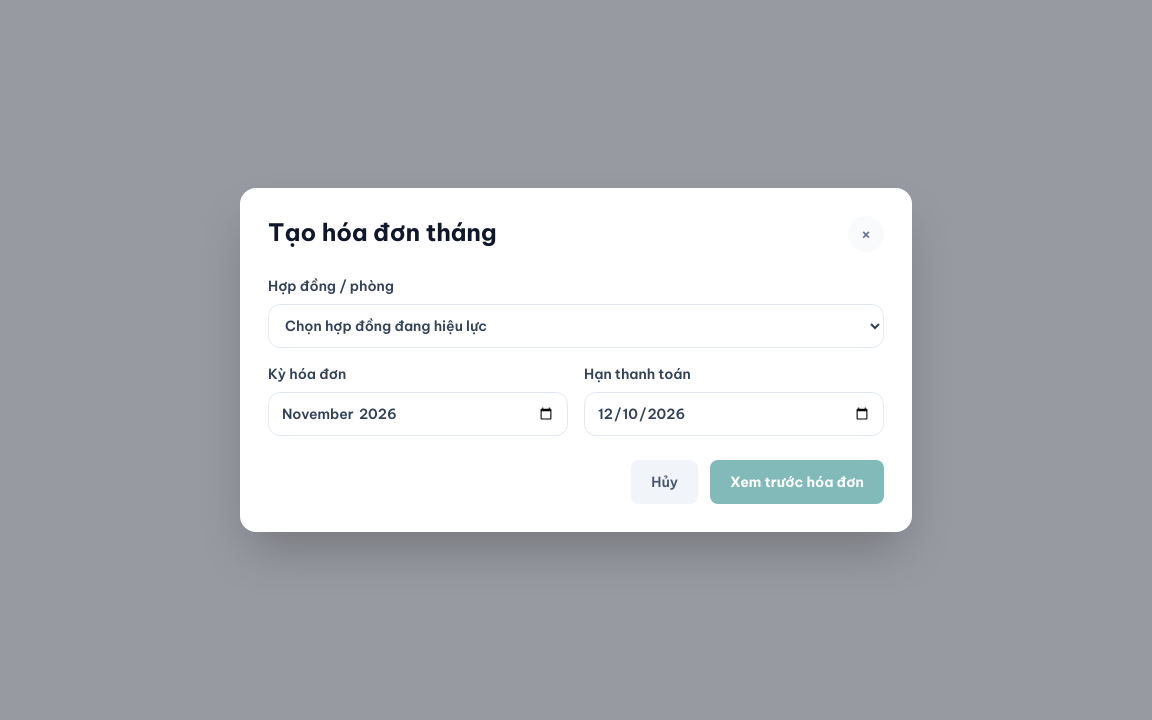
Scenario: contract meter handover › guides a missing baseline to the shared form without offering editable starting readings
The width and height of the screenshot is (1152, 720).
Select "Sunrise · Phòng A101 · Nguyễn An" in the dropdown labelled "Hợp đồng / phòng" at coordinates (576, 326), box [268,304,884,348]
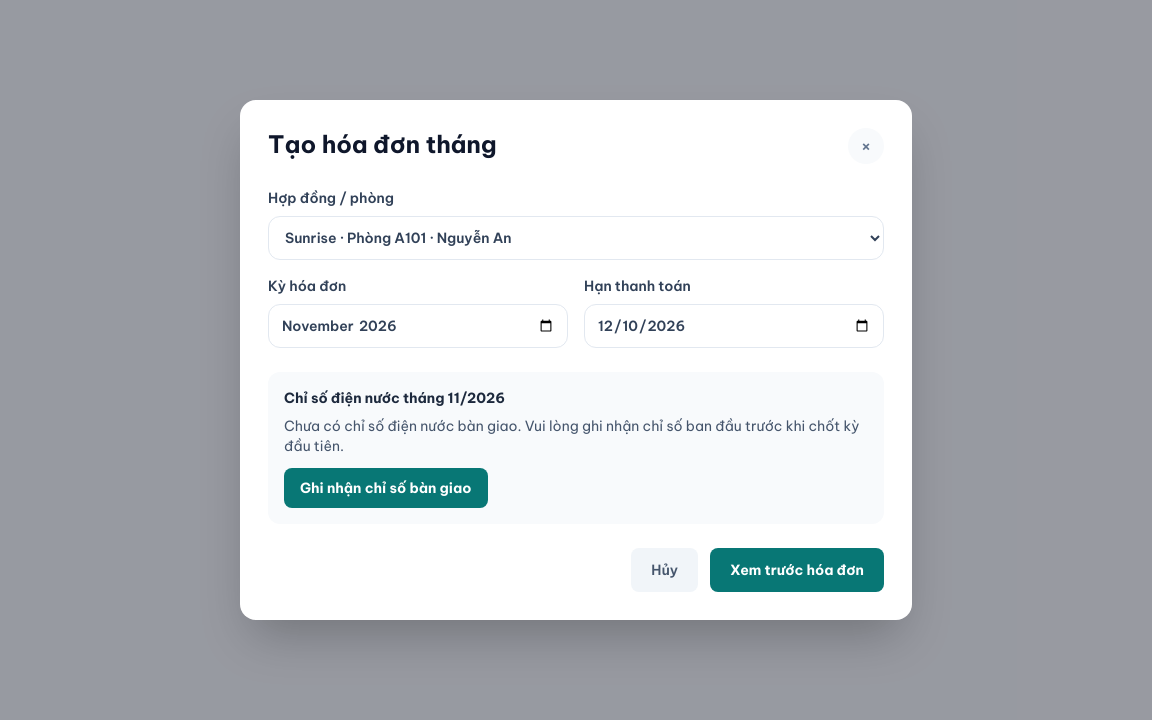
Expected: the field labelled "Chỉ số điện đầu kỳ" is not shown
Now the text "Chưa có chỉ số điện nước bàn giao" is shown, box [284,417,860,455]
Click the button "Ghi nhận chỉ số bàn giao" at coordinates (386, 488), box [284,468,488,508]
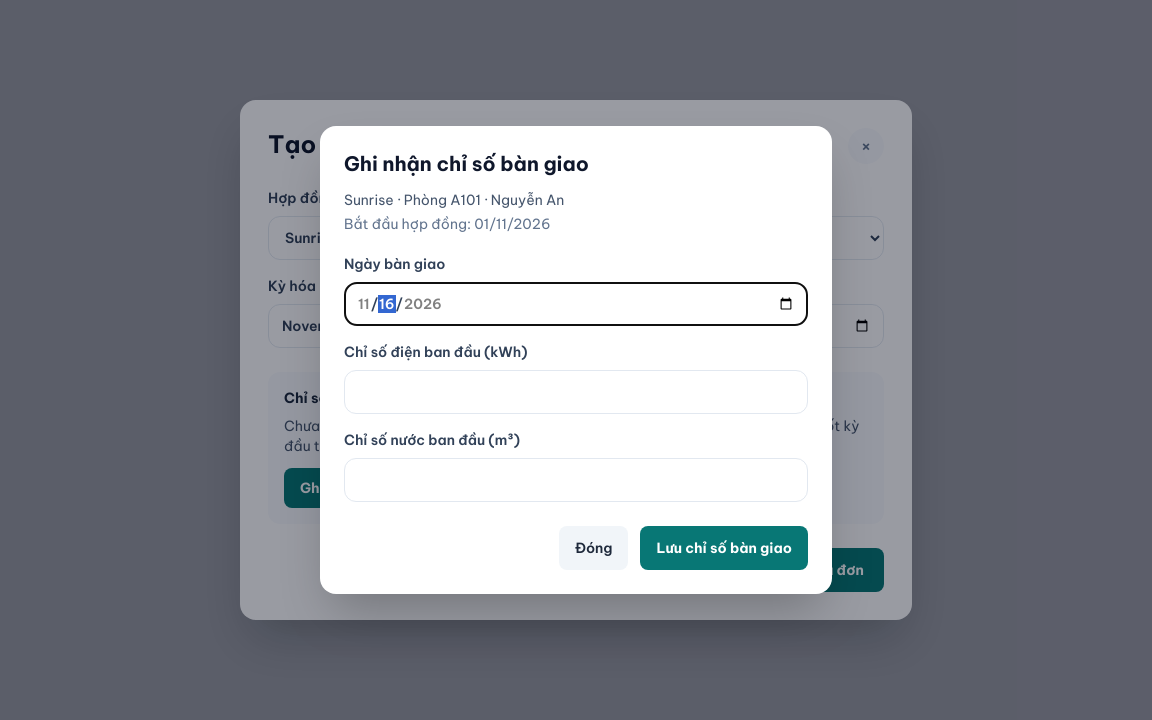
Type "1200" into the number field labelled "Chỉ số điện ban đầu (kWh)" at coordinates (576, 392), box [344,370,808,414]
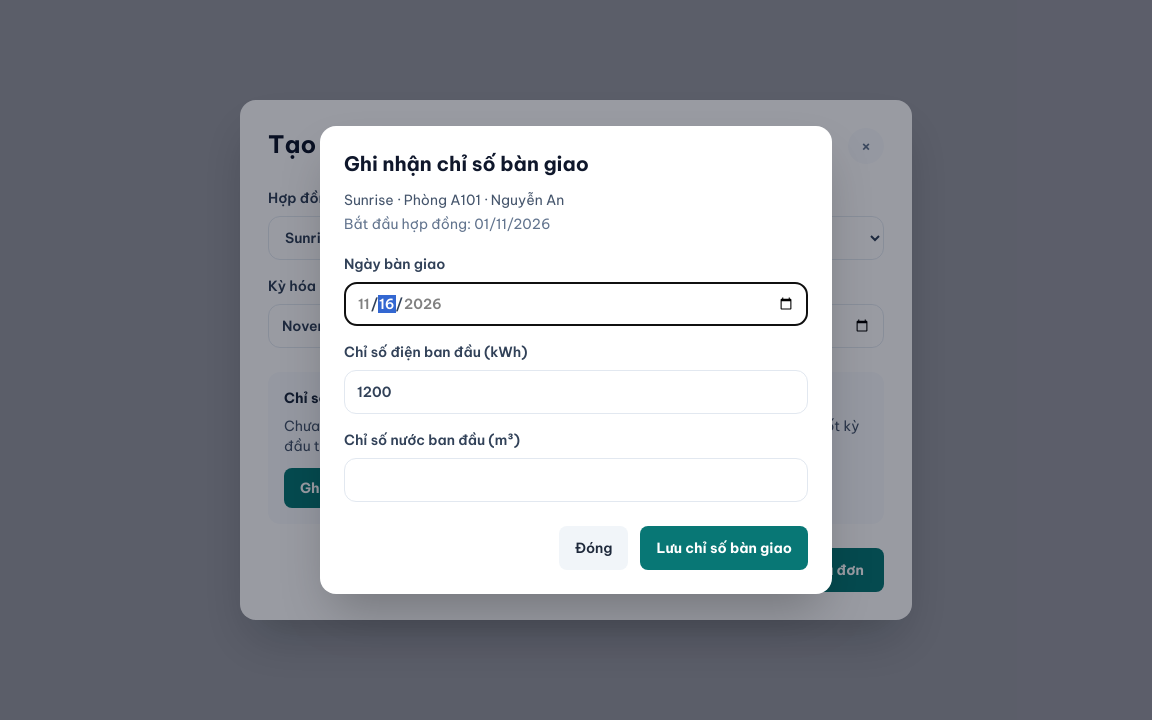
Type "45" into the number field labelled "Chỉ số nước ban đầu (m³)" at coordinates (576, 480), box [344,458,808,502]
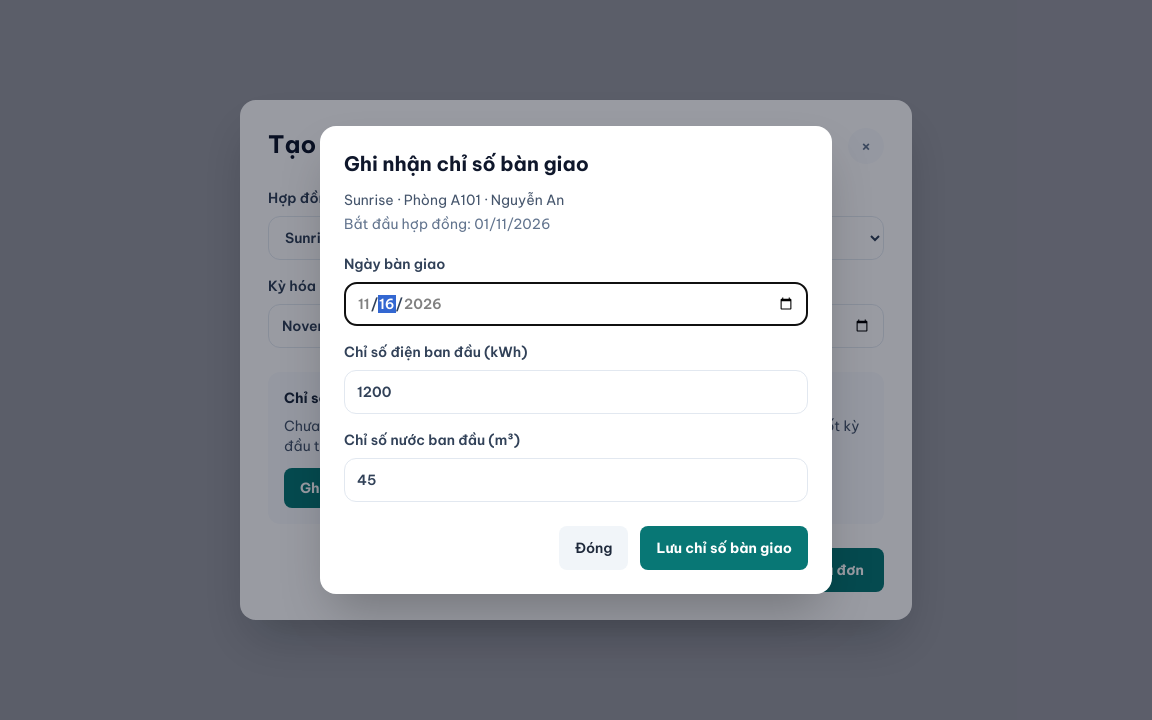
Click the button "Lưu chỉ số bàn giao" at coordinates (724, 548), box [640,526,808,570]
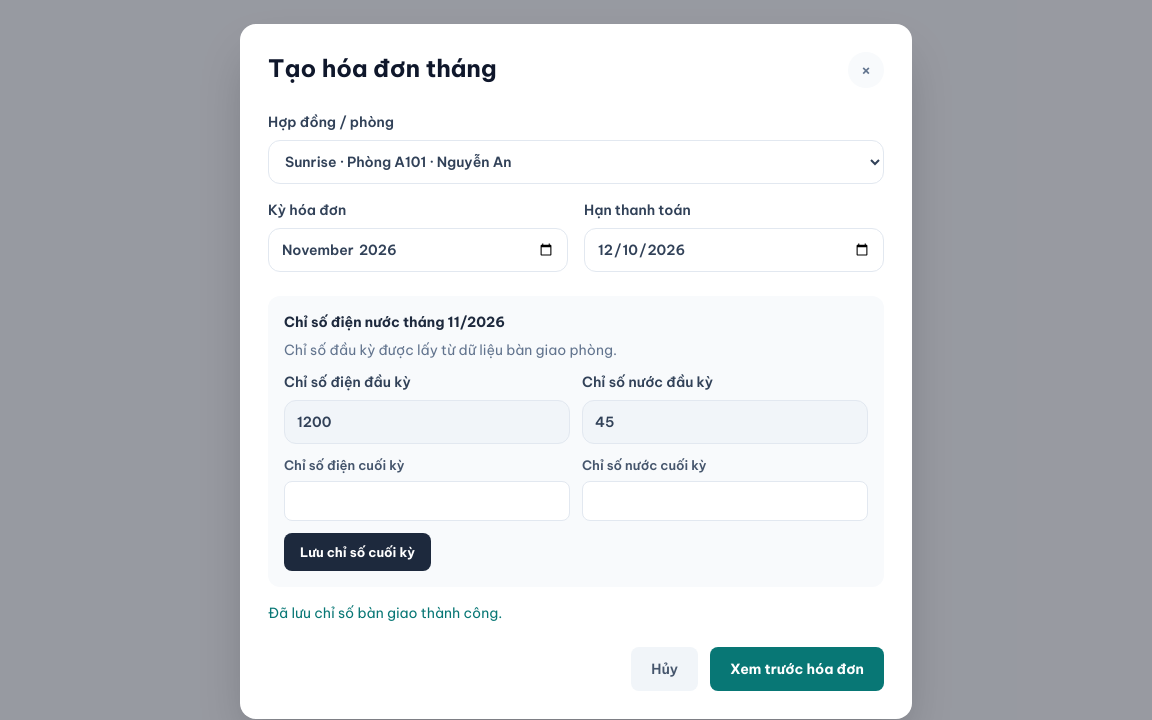
Now the text "Chỉ số đầu kỳ được lấy từ dữ liệu bàn giao phòng." is shown, box [284,341,617,359]
